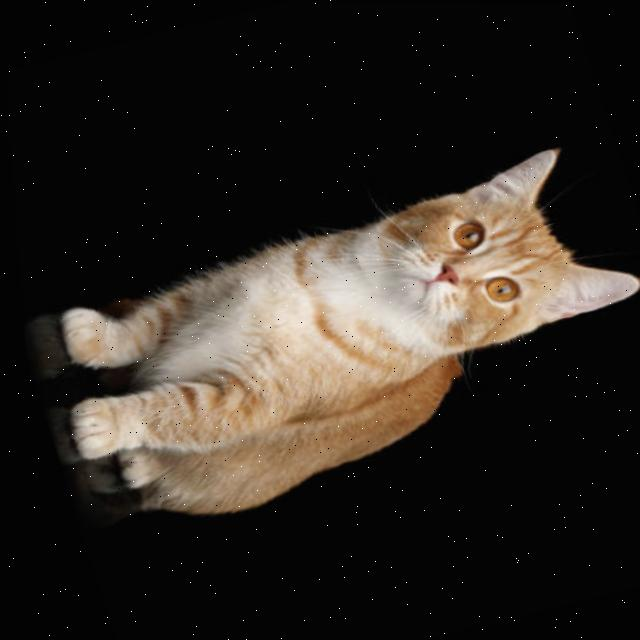Munchkin: (7, 127, 640, 550)
